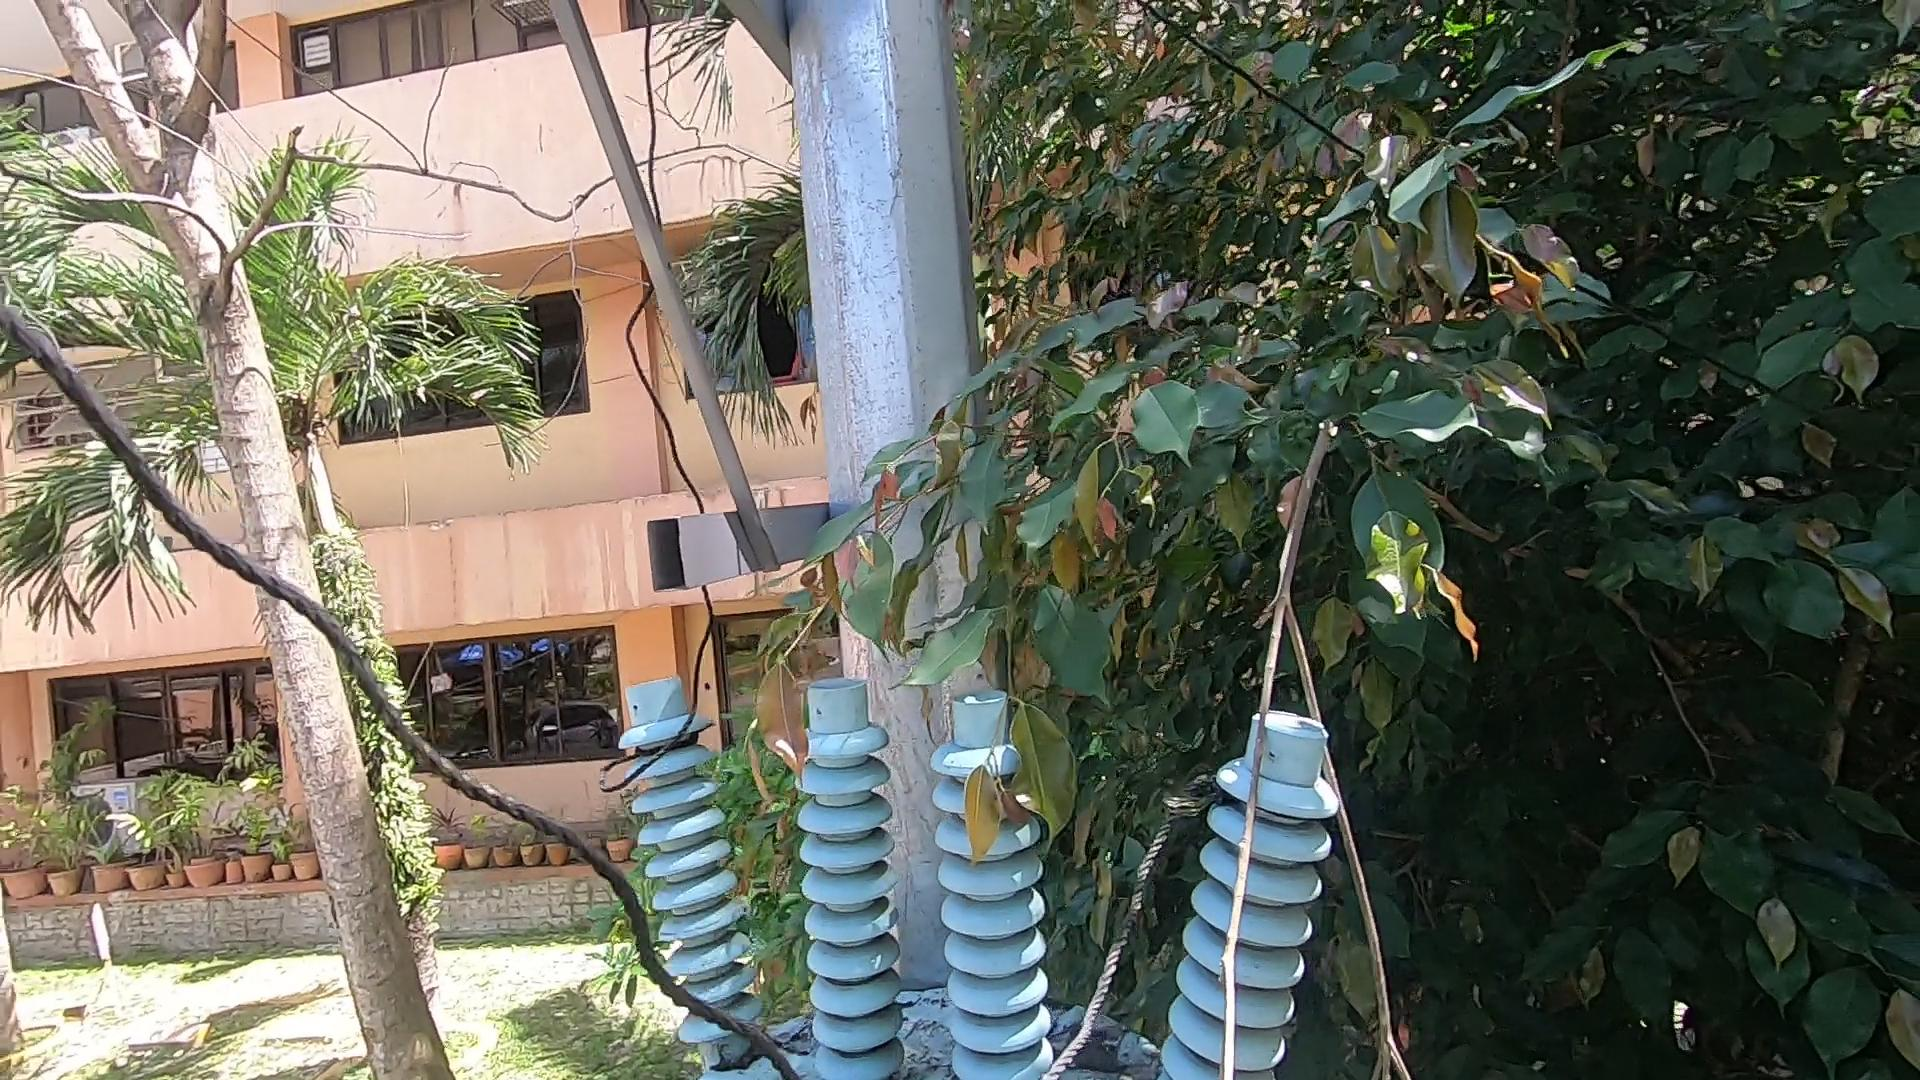tree branch: (1185, 419, 1437, 1077)
